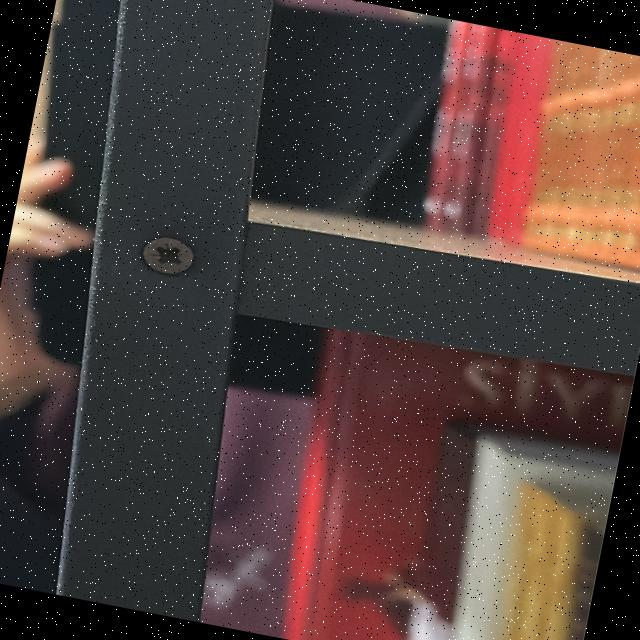Pozidriv: (128, 232, 200, 288)
